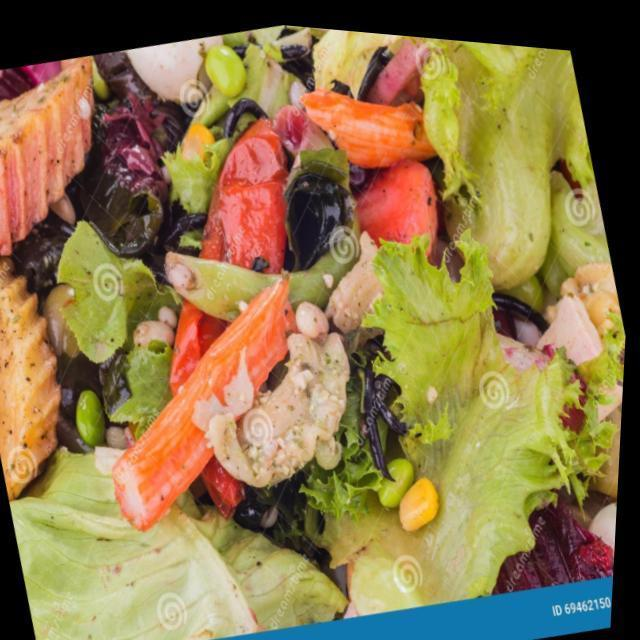Garbage: (0, 20, 629, 640)
